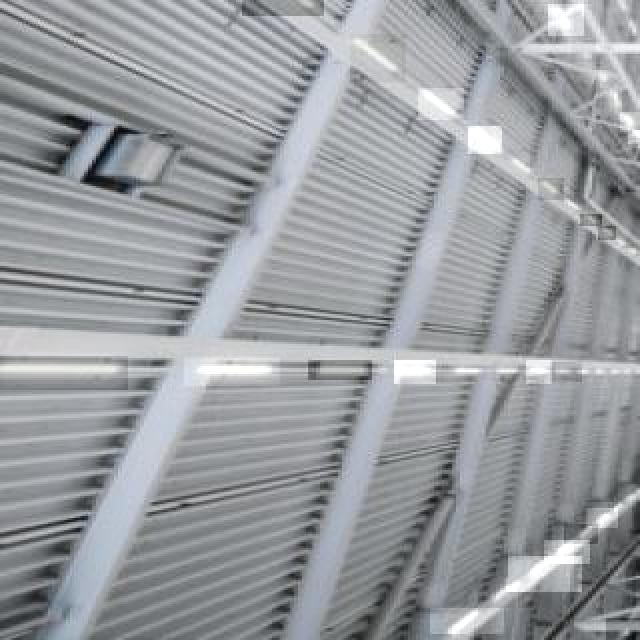fluorescent tube: (0, 344, 120, 408), (338, 27, 415, 82), (191, 347, 280, 389), (442, 592, 496, 640), (486, 560, 558, 595), (400, 85, 467, 120), (289, 366, 389, 389), (224, 0, 334, 10), (512, 0, 556, 4)
